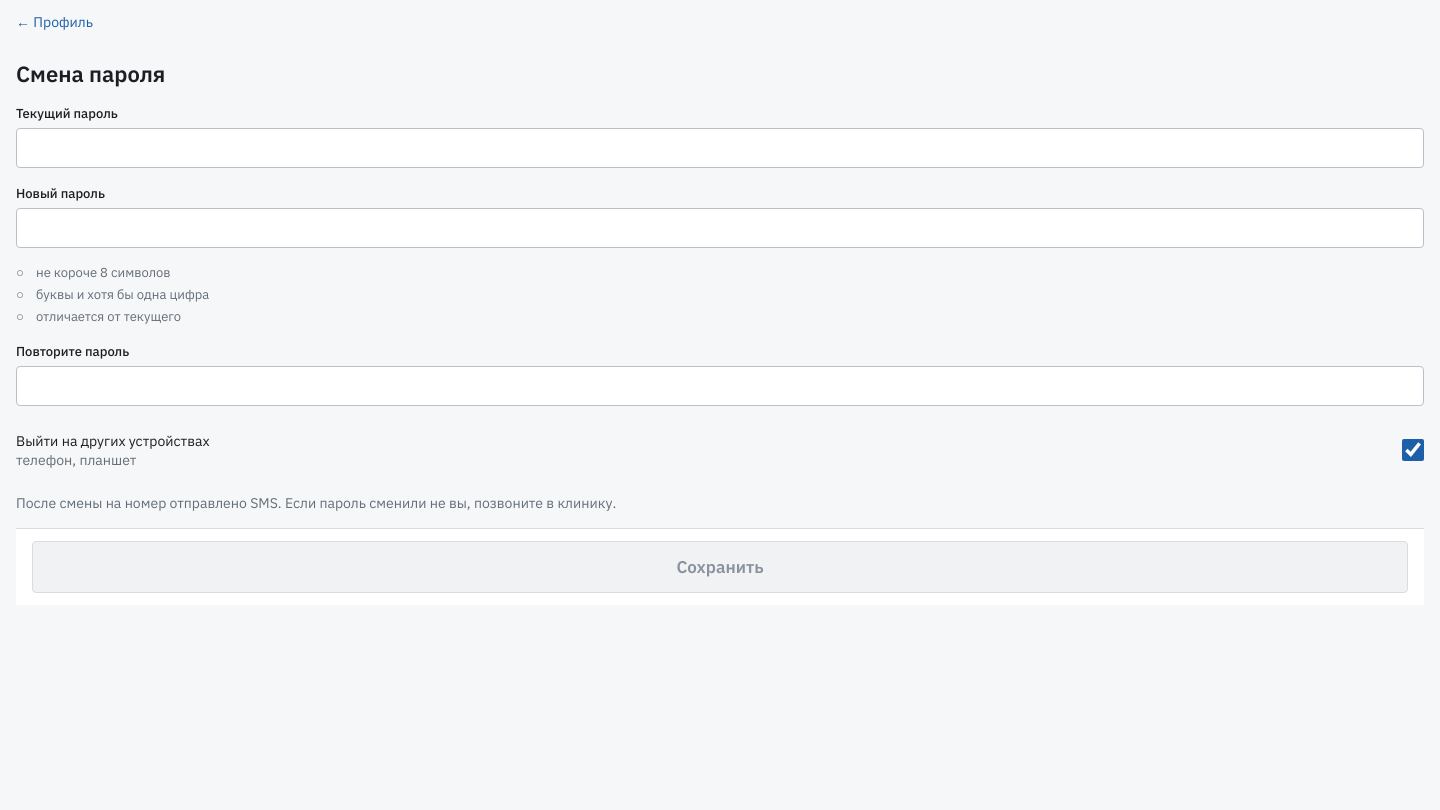
Test: PatientPassword › показывает ошибку при неверном текущем пароле
Type "demo1234" into the password field labelled "Текущий пароль".
click(720, 148); type("demo1234")  # box [16,128,1424,168]
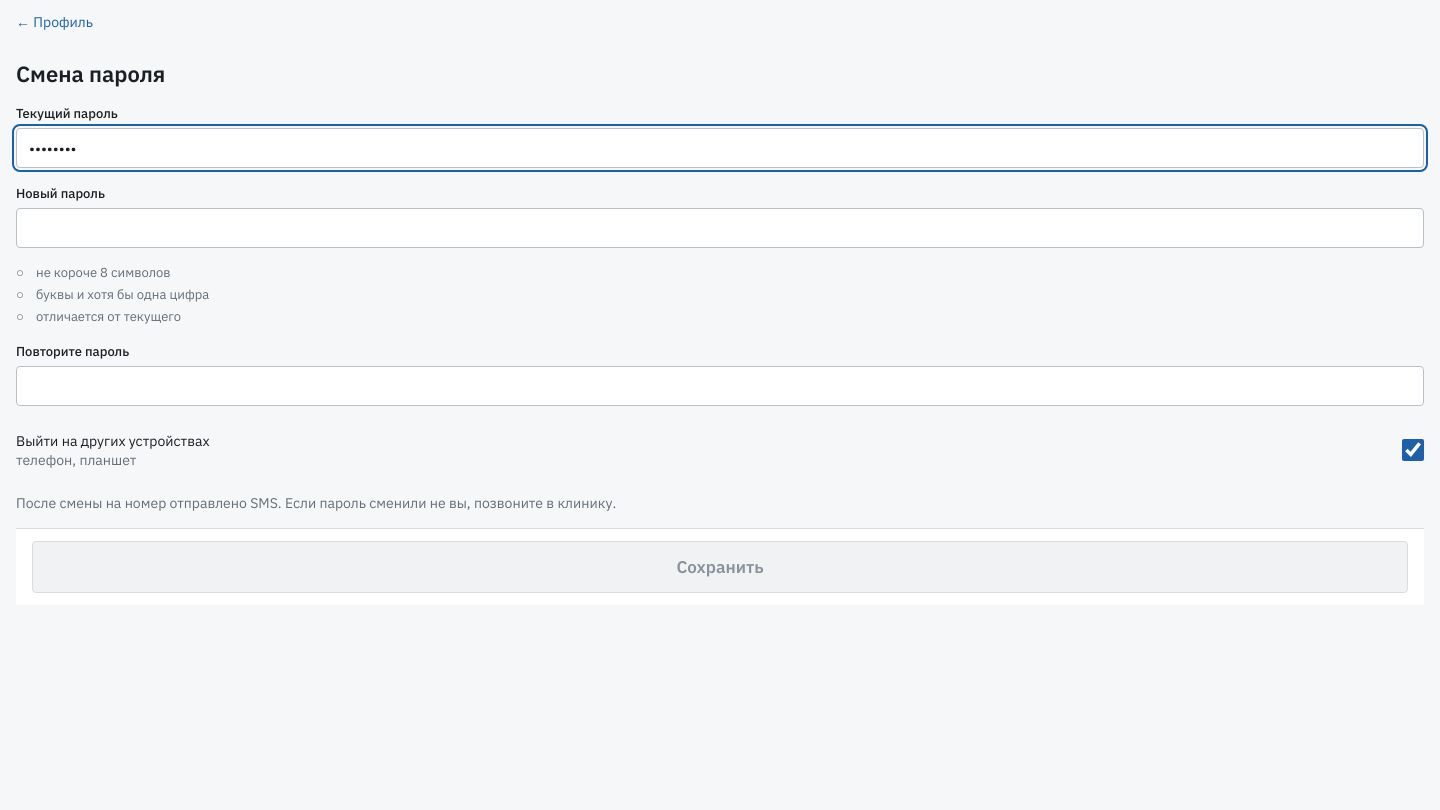
Type "Newpass123" into the password field labelled "Новый пароль".
click(720, 228); type("Newpass123")  # box [16,208,1424,248]
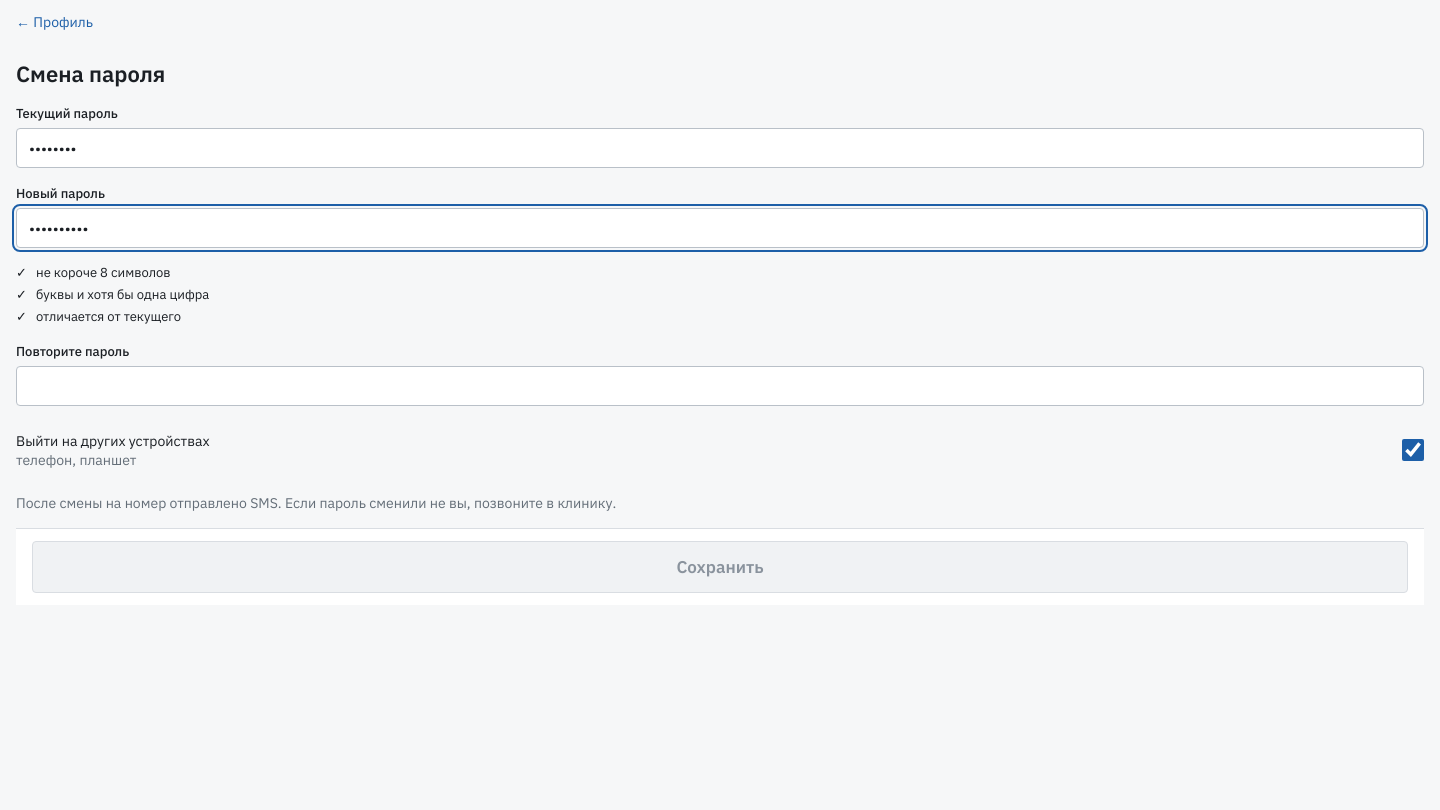
Type "Newpass123" into the password field labelled "Повторите пароль".
click(720, 386); type("Newpass123")  # box [16,366,1424,406]
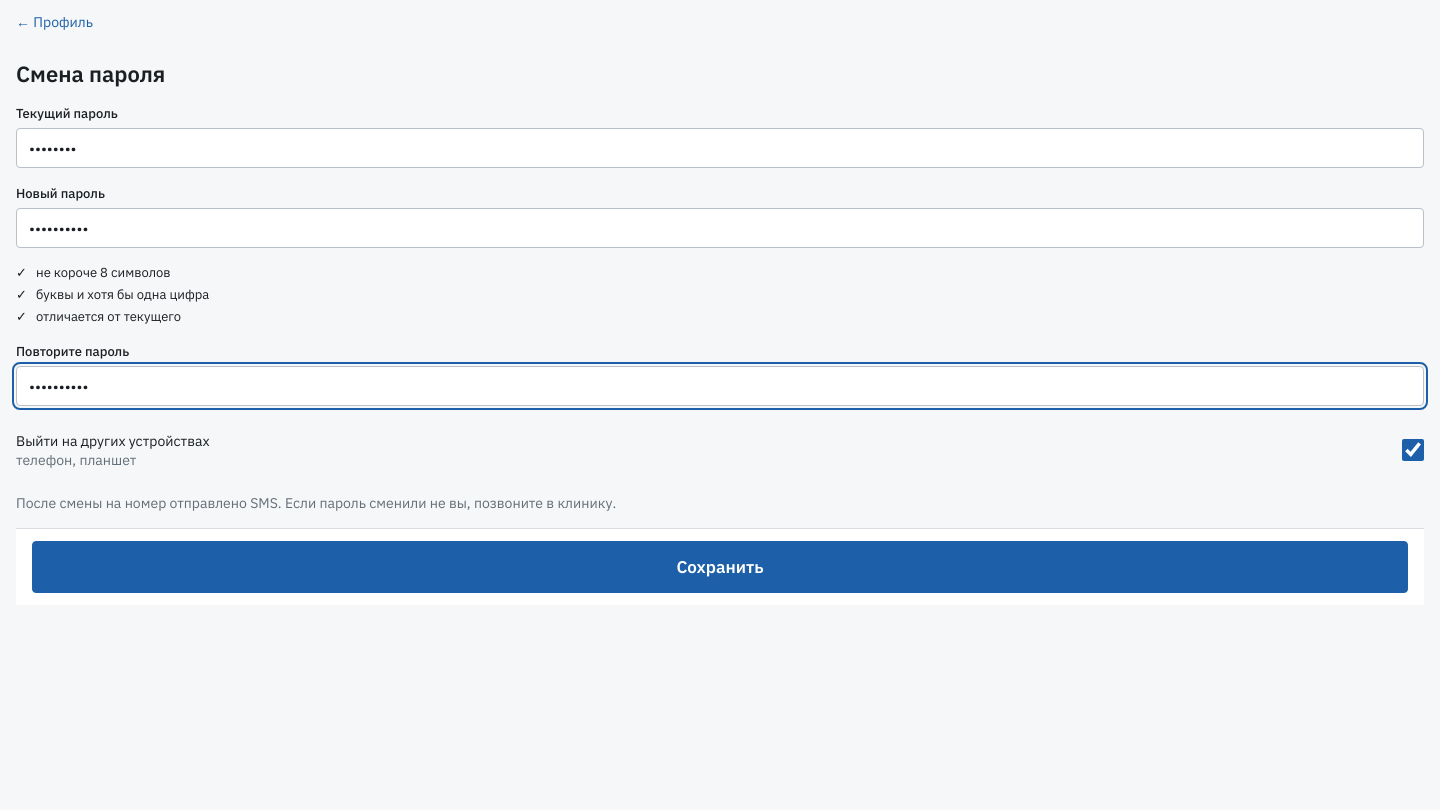
Click the button "Сохранить".
click(720, 567)  # box [32,541,1408,593]
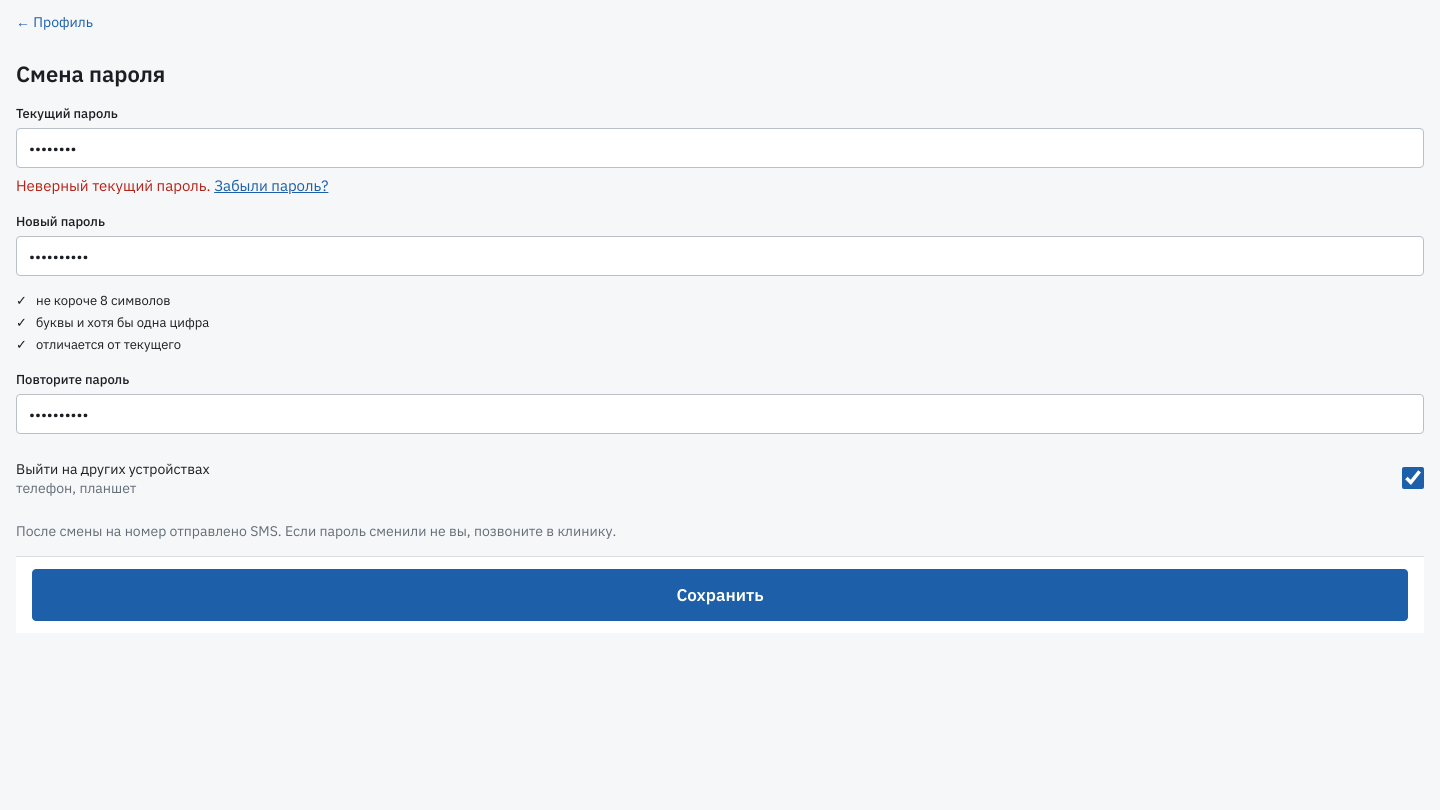
Expected: the message shows "Неверный текущий пароль.", [16,176,211,195]
